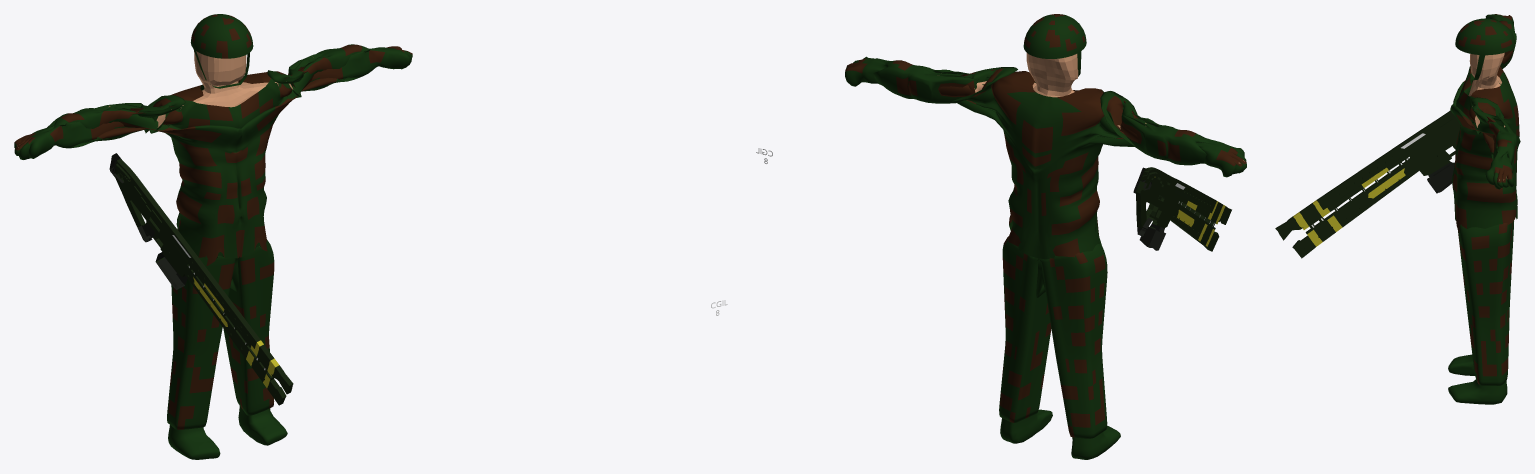
File: tower3_budoucnost.fbx
The picture shows the model from 3 angles, left to right: view 1: azimuth 30°, elevation 25°; view 2: azimuth 150°, elevation 25°; view 3: azimuth 270°, elevation 25°; orthographic projection. The views are drawn at different scales.
Parts seen in each view (by area): view 1: kabat, kalhoty, Plane.001, telo, boty, Sphere.001; view 2: kabat, kalhoty, Plane.001, Sphere.001, boty, telo; view 3: kabat, Plane.001, kalhoty, Sphere.001, boty, telo.
Part boxes in pixels (x1,y1,x2,y2): kabat: [14, 44, 412, 265]; kalhoty: [167, 240, 274, 429]; Plane.001: [109, 153, 293, 405]; telo: [171, 51, 278, 109]; boty: [168, 406, 287, 459]; Sphere.001: [190, 14, 253, 88]; kabat: [845, 56, 1246, 259]; kalhoty: [999, 236, 1107, 438]; Plane.001: [1133, 167, 1231, 251]; Sphere.001: [1023, 14, 1086, 76]; boty: [1000, 409, 1120, 459]; telo: [1026, 53, 1078, 97]; kabat: [1450, 14, 1520, 232]; Plane.001: [1275, 110, 1459, 258]; kalhoty: [1457, 221, 1513, 385]; Sphere.001: [1455, 18, 1515, 80]; boty: [1448, 354, 1507, 404]; telo: [1468, 52, 1504, 106].
Size of the model in its own units: 514 by 348 by 211.
